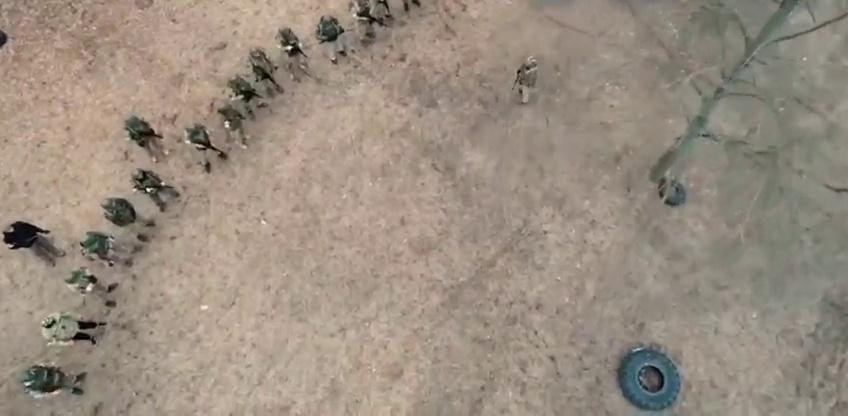person: (2, 219, 66, 268), (16, 362, 88, 400), (40, 312, 108, 348), (100, 198, 155, 242), (80, 230, 142, 268), (123, 113, 170, 163), (183, 122, 229, 173), (64, 266, 119, 308), (130, 168, 181, 213), (274, 26, 312, 81), (227, 73, 269, 121), (247, 46, 285, 99), (348, 0, 389, 45), (215, 101, 252, 150), (315, 15, 348, 65), (511, 56, 538, 106)
